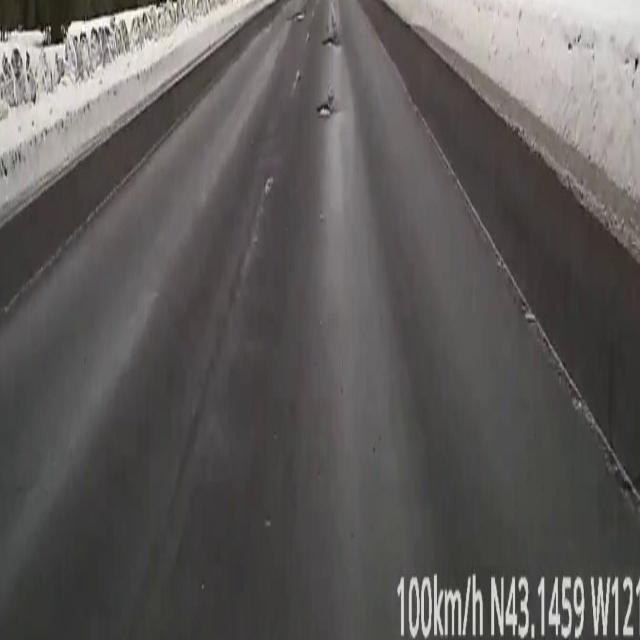pothole: (316, 92, 334, 116)
